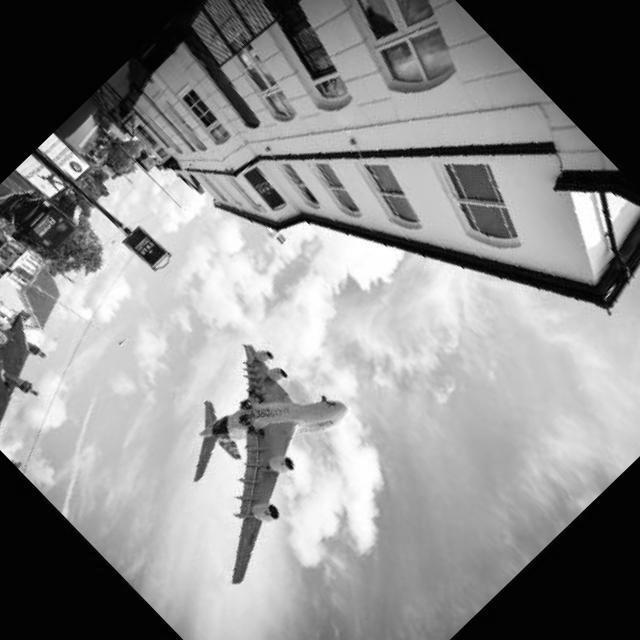aeroplane: (117, 318, 391, 592)
